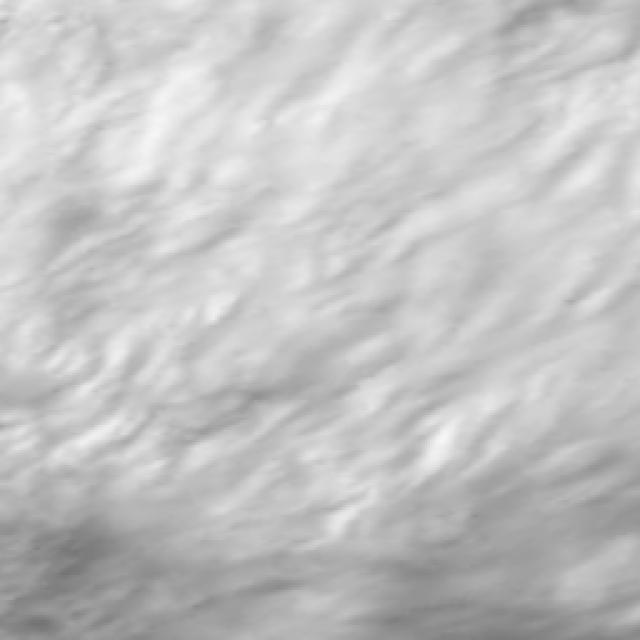CB: (2, 0, 639, 602)
